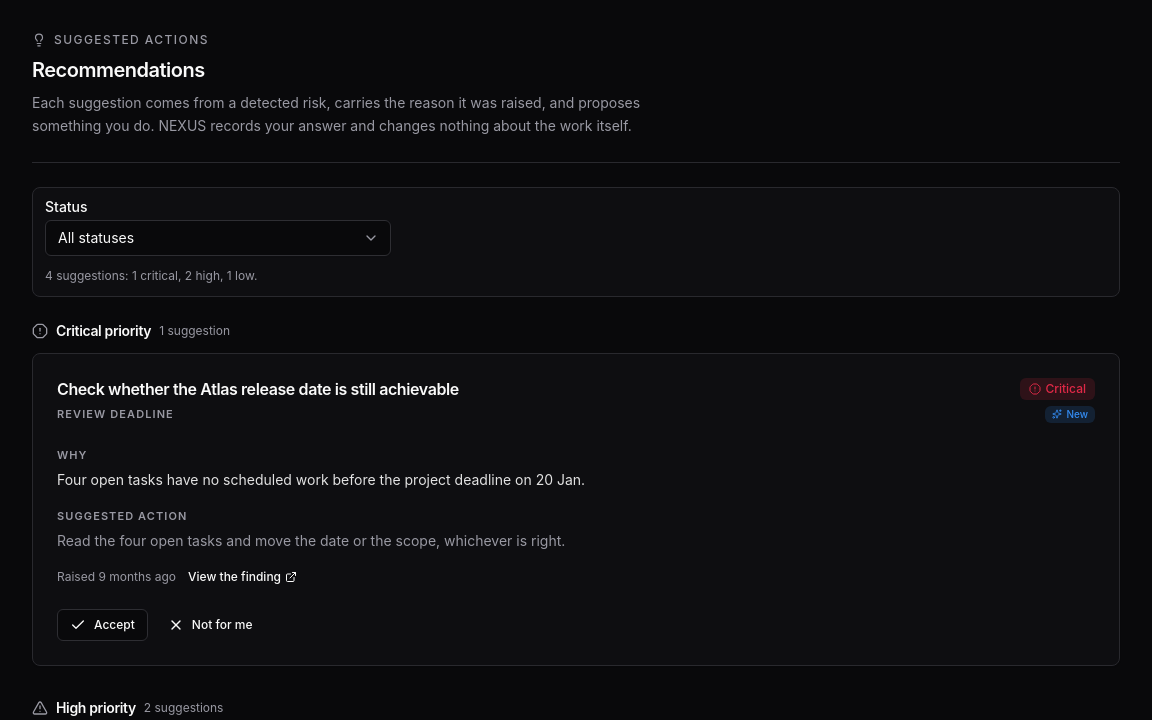
Test case: recommendations page › redraws a card from the row its transition returned
The image size is (1152, 720).
Expected: the heading "Check whether the Atlas release date is still achievable" is shown, [57,378,459,400]
Expected: the element "Check whether the Atlas release date is still achievable" shows "New", [1066,408,1088,420]
Click the button "Accept": (102, 625) [57,609,148,641]
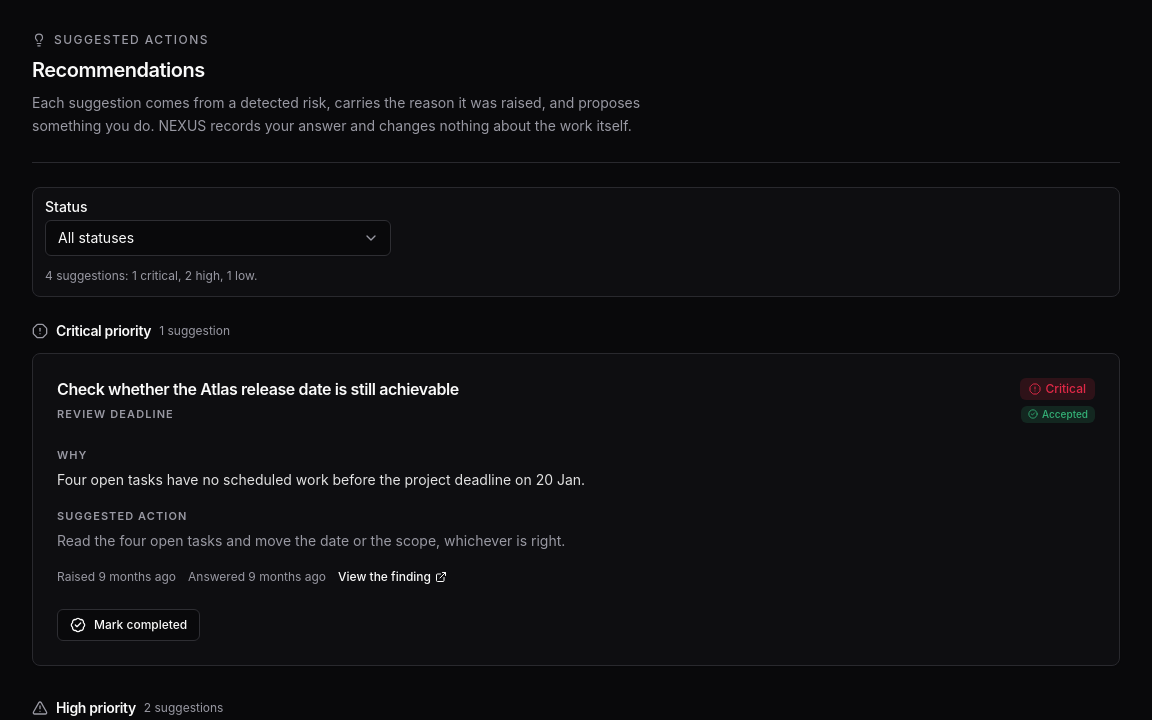
Expected: the element "Check whether the Atlas release date is still achievable" shows "Accepted", [1042,408,1088,420]
Expected: the text "Answered 9 months ago" is shown, [188,569,326,585]
